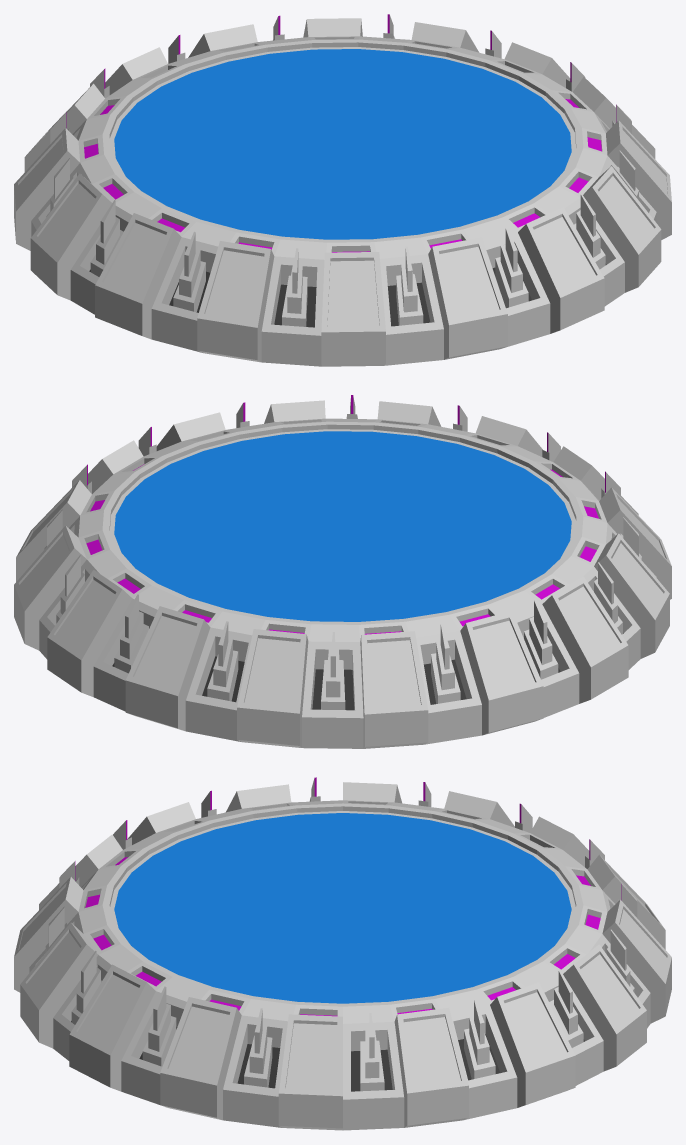
File: HANGAR_BASE.fbx
The picture shows the model from 3 angles, top to bottom: view 1: azimuth 30°, elevation 25°; view 2: azimuth 150°, elevation 25°; view 3: azimuth 270°, elevation 25°; orthographic projection.
Visible parts, largest first — view 1: Cube; view 2: Cube; view 3: Cube.
Boxes of the visible parts, <box> form: Cube: <box>14,14,671,366</box>; Cube: <box>14,395,671,748</box>; Cube: <box>14,777,671,1130</box>.
Bounding box in the file's own units: 274 × 47.13 × 274.
